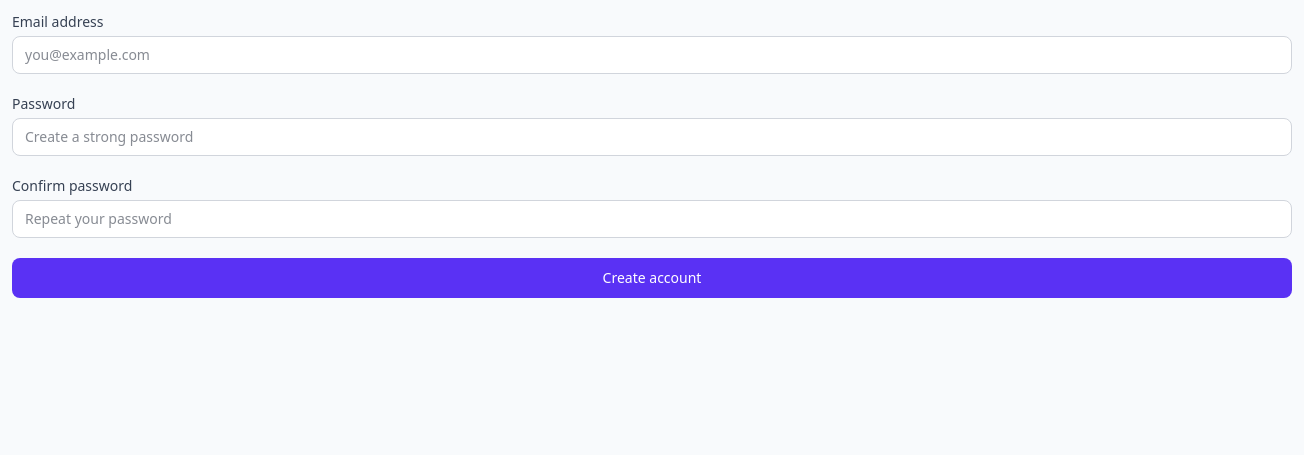
Test: RegisterForm › shows confirm password mismatch error
The width and height of the screenshot is (1304, 455).
In the password field labelled "Password": (652, 137) [12, 118, 1292, 156], type "Abcdefg1"
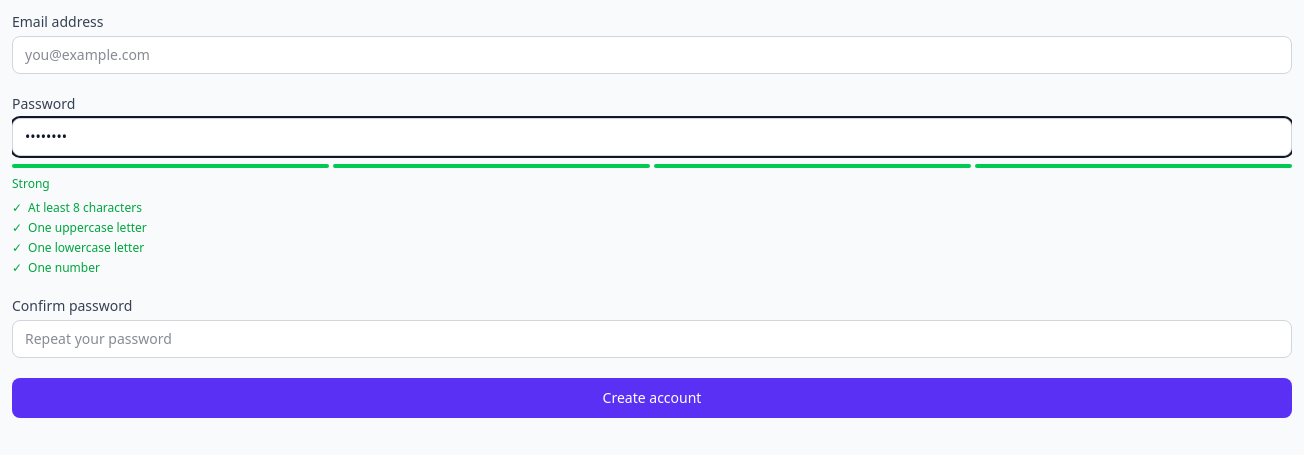
In the password field labelled "Confirm password": (652, 339) [12, 320, 1292, 358], type "Different1"
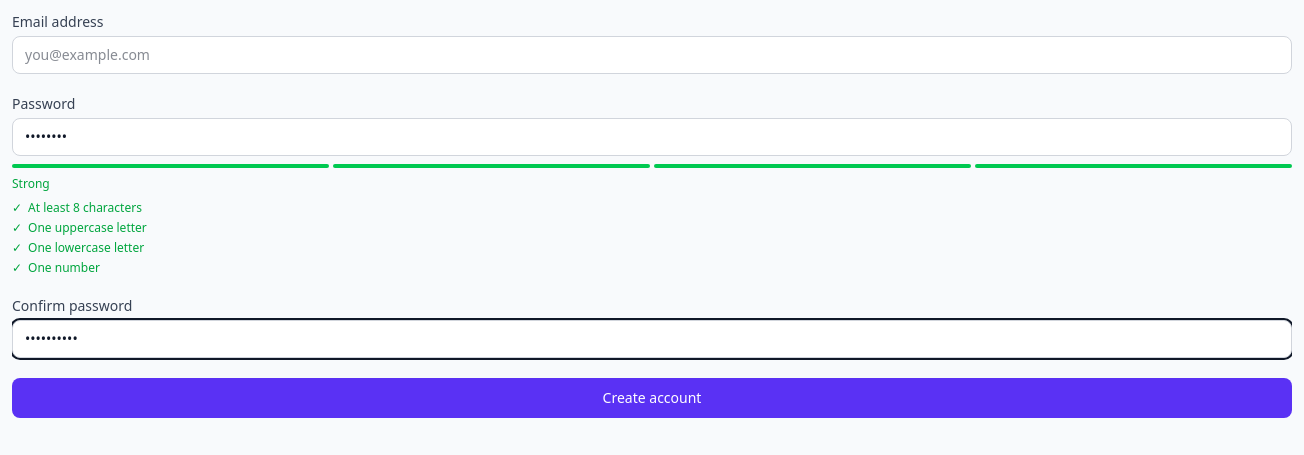
Leave the password field labelled "Confirm password", box [12, 320, 1292, 358]
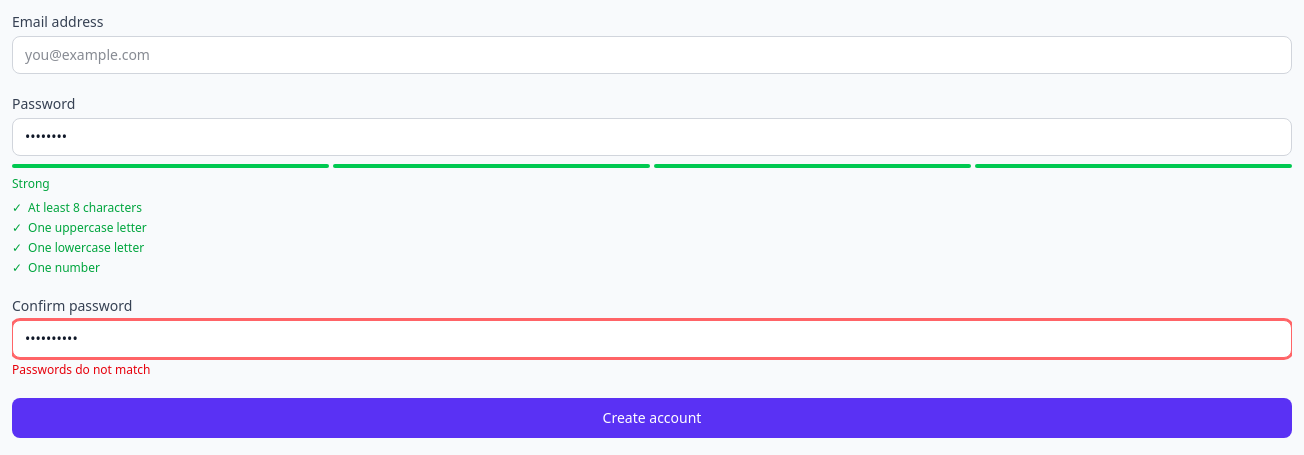
expect the text "Passwords do not match" is shown: met, box [12, 361, 150, 378]
